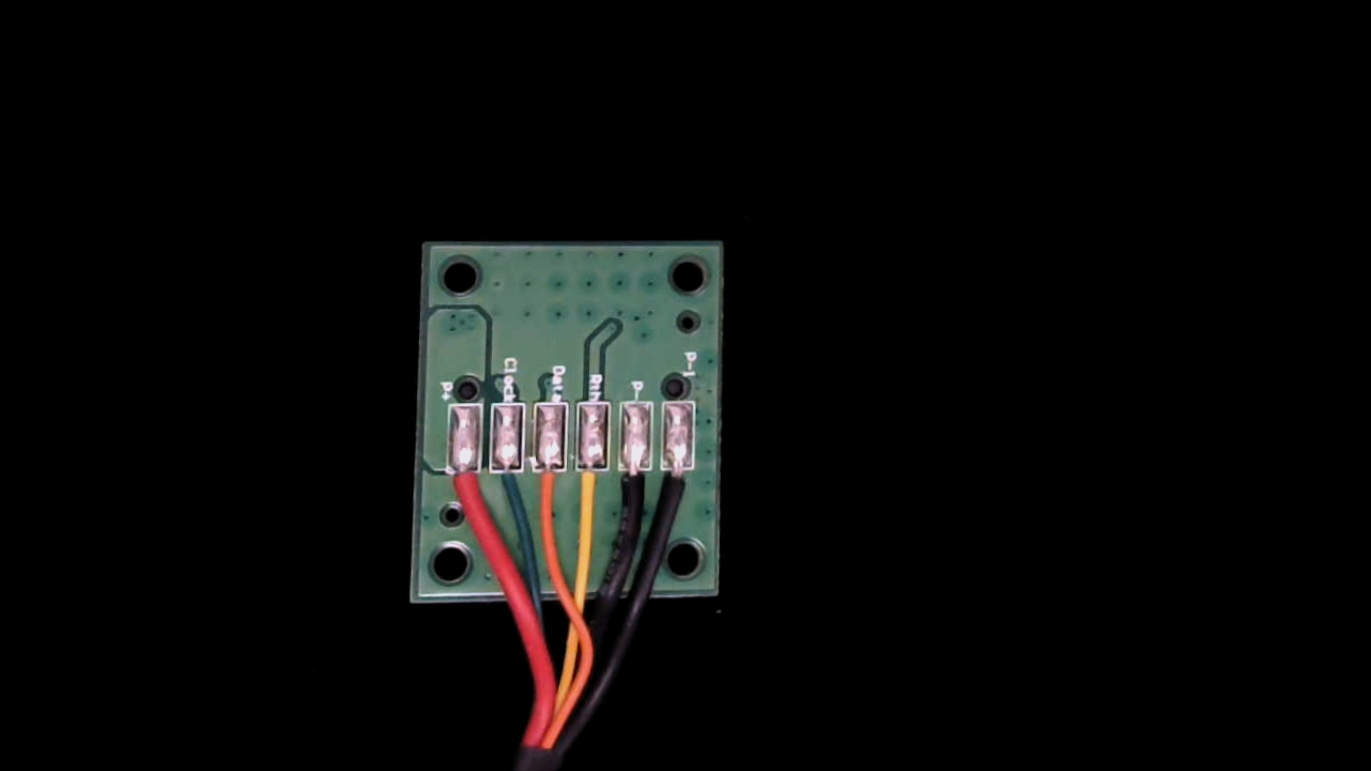Black: (615, 451, 656, 532)
Black1: (659, 451, 698, 525)
Green: (490, 452, 528, 521)
Orange: (528, 454, 567, 533)
Red: (441, 455, 481, 532)
Yellow: (570, 452, 611, 533)
